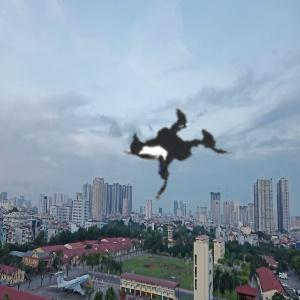drone: (78, 44, 270, 236)
